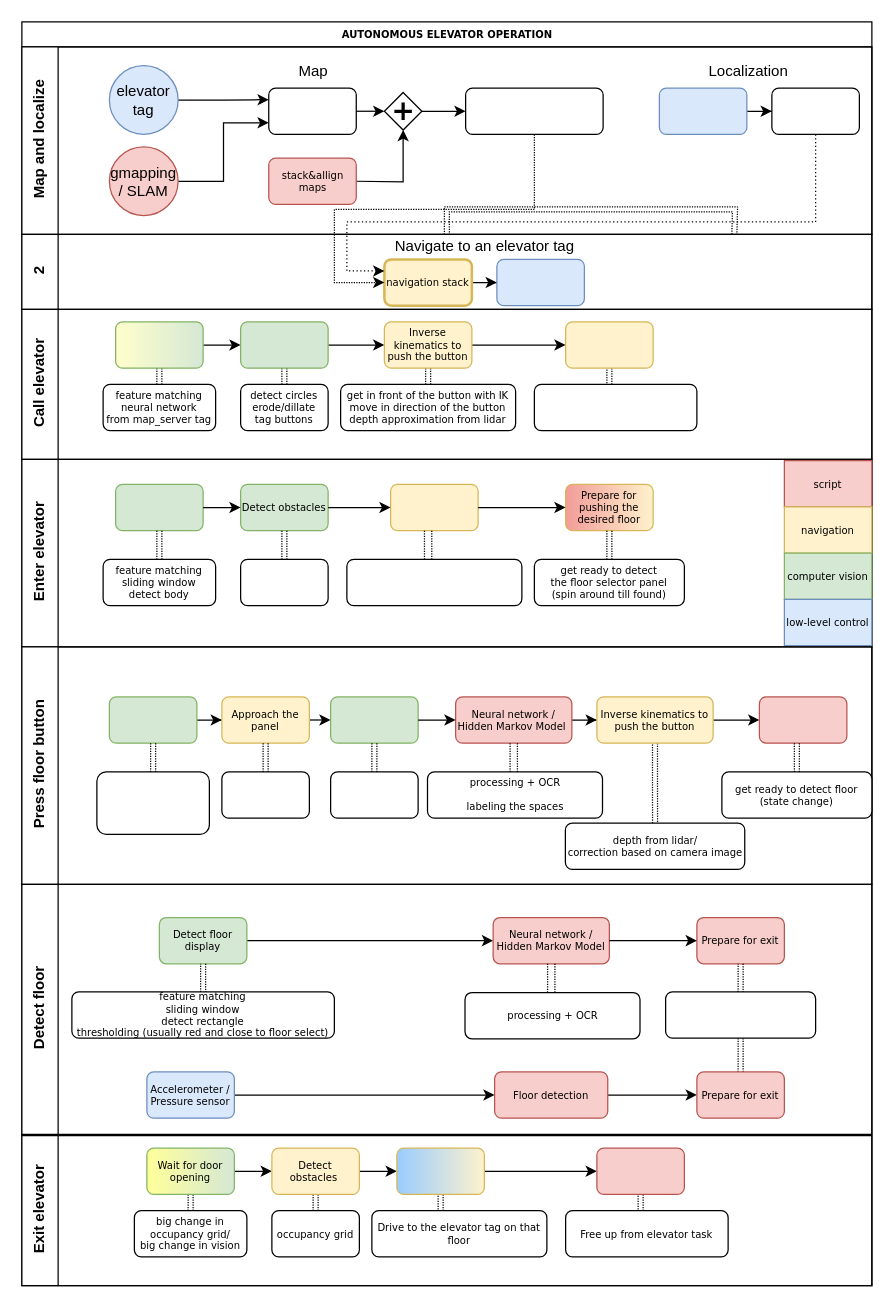
This 894x1308 diagram has some shape labels left out. The centre of each missing label's shape, as x and y in pixels:
+ light: (265,794)
base controller: (540,282)
Detect buttons + fit grid: (373,719)
Detect call buttons: (283,344)
Detect door: (158,344)
Detect floor selection panel: (152,719)
Detect people: (158,507)
Drive into elevator: (433,507)
Drive out of elevator: (440,1170)
environment information: (702,110)
face elevator door: (740,1014)
FAST! lidars could become unreliable: (434,582)
feature matching sliding window detect rectangle find circles: (152,802)
from lidar: (283,582)
map_server: (312,110)
map_server_stacked: (533,110)
Prepare for detecting floor: (802,719)
Prepare for entering the elevator: (608,344)
Prepare for navigation task: (640,1170)
return in front of the door wait for elevator door opening: (615,407)
sliding window + expectation maximization: (373,794)
tf: (815,110)
